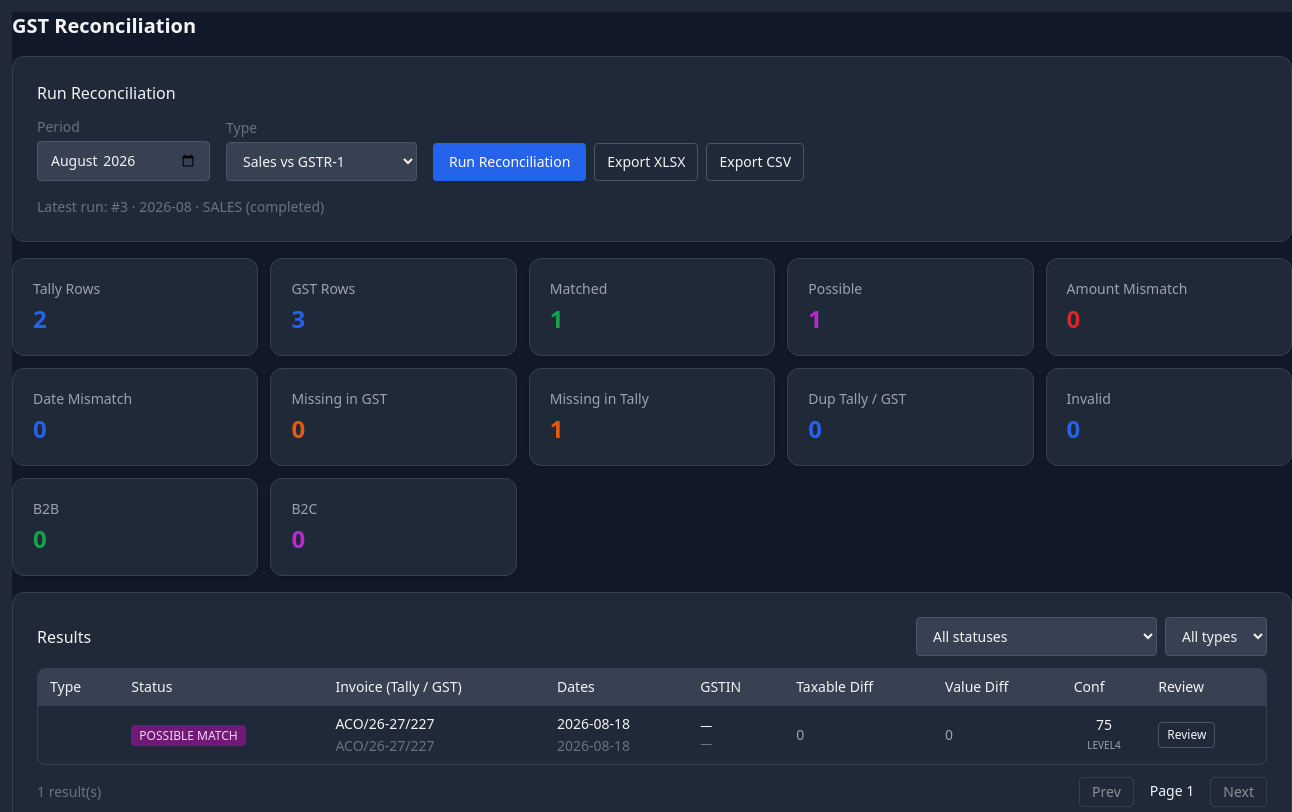
Test case: Reconciliation › review flow saves ACCEPTED via the review API
Click the button "Review" at coordinates (1187, 735), box [1158, 722, 1216, 748]
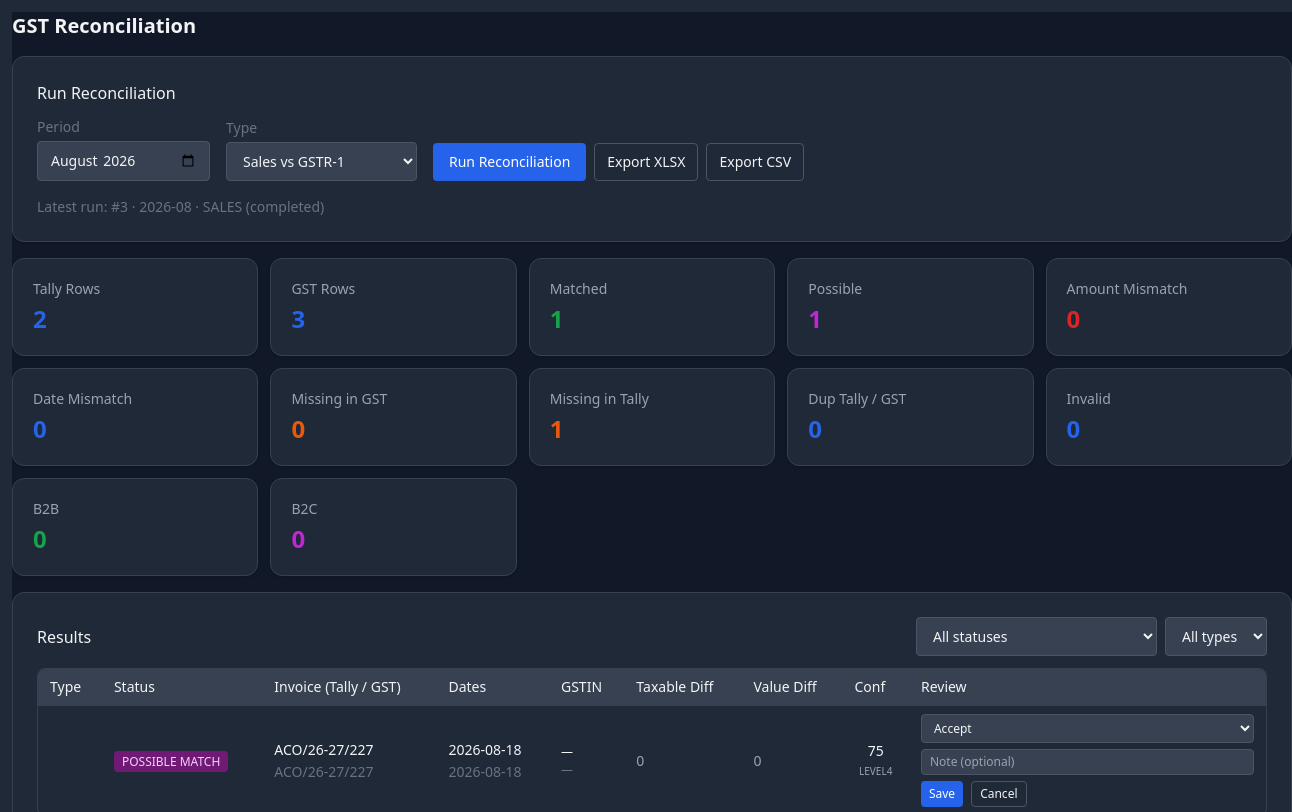
Type "Verified against ledger" into the field named "Review Note" at coordinates (1088, 762), box [921, 749, 1254, 775]
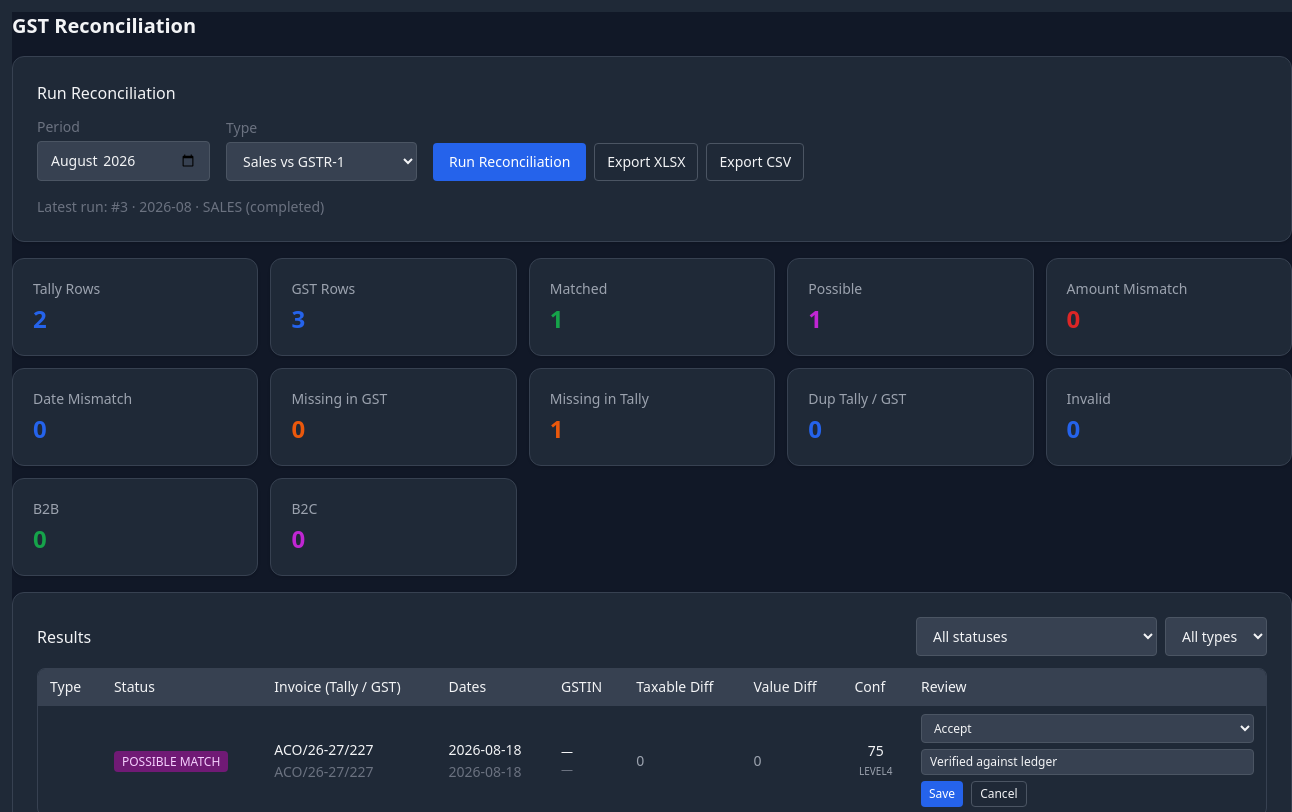
Click the button "Save" at coordinates (942, 794), box [921, 781, 963, 807]
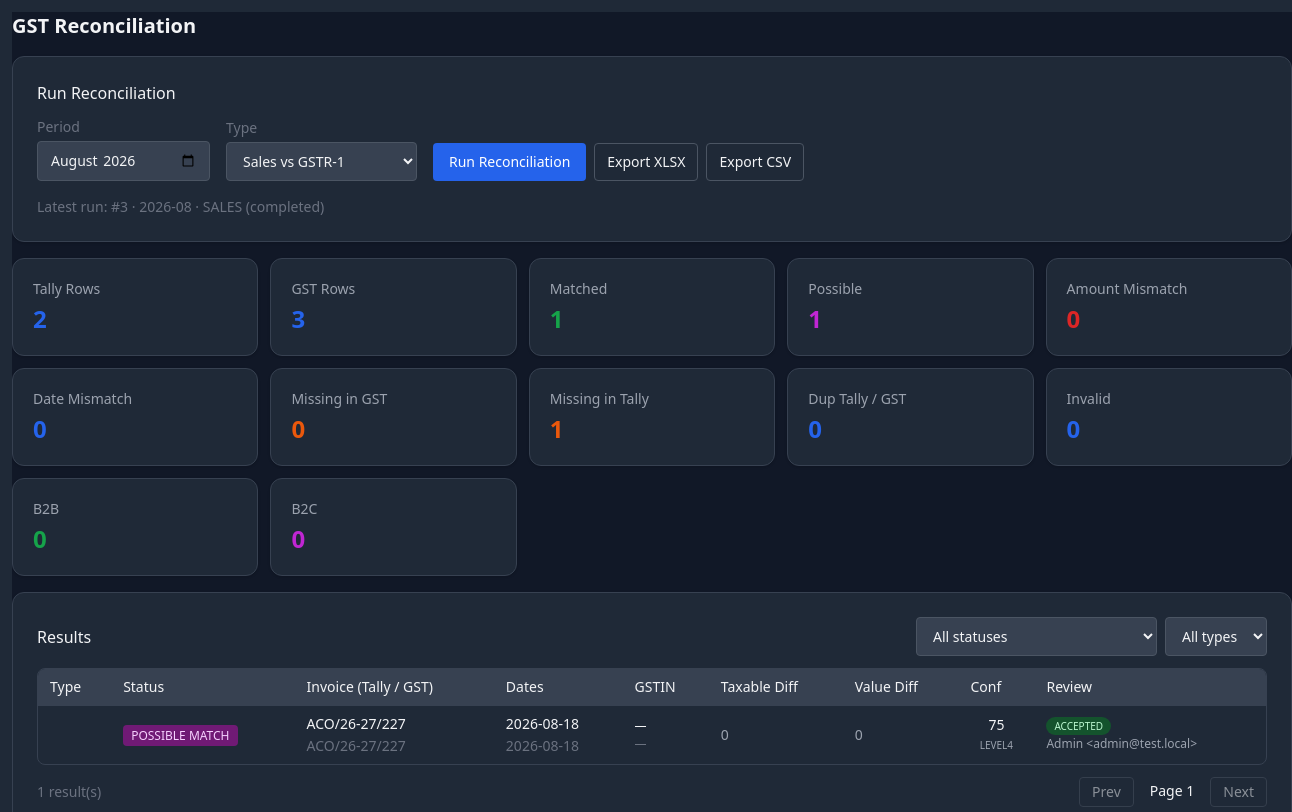
Result: the text "ACCEPTED" is shown at [1046, 717, 1111, 735]
